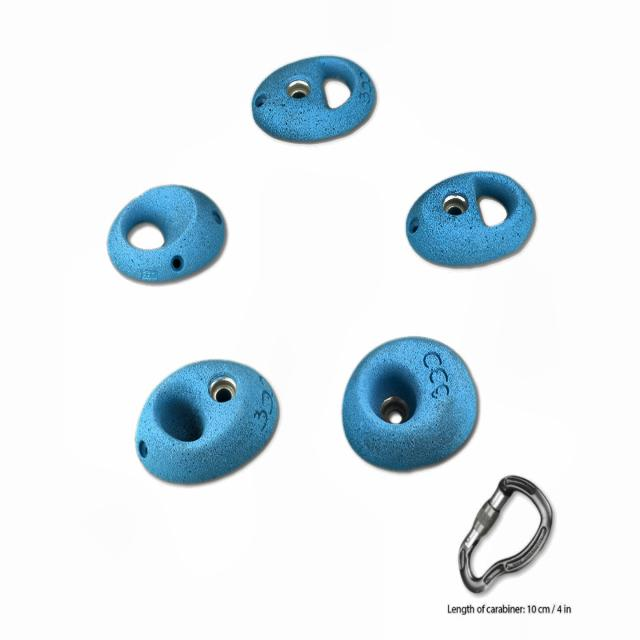Hold: (336, 335, 483, 473), (131, 356, 280, 488), (403, 171, 541, 270), (105, 182, 232, 285), (250, 54, 378, 144)
